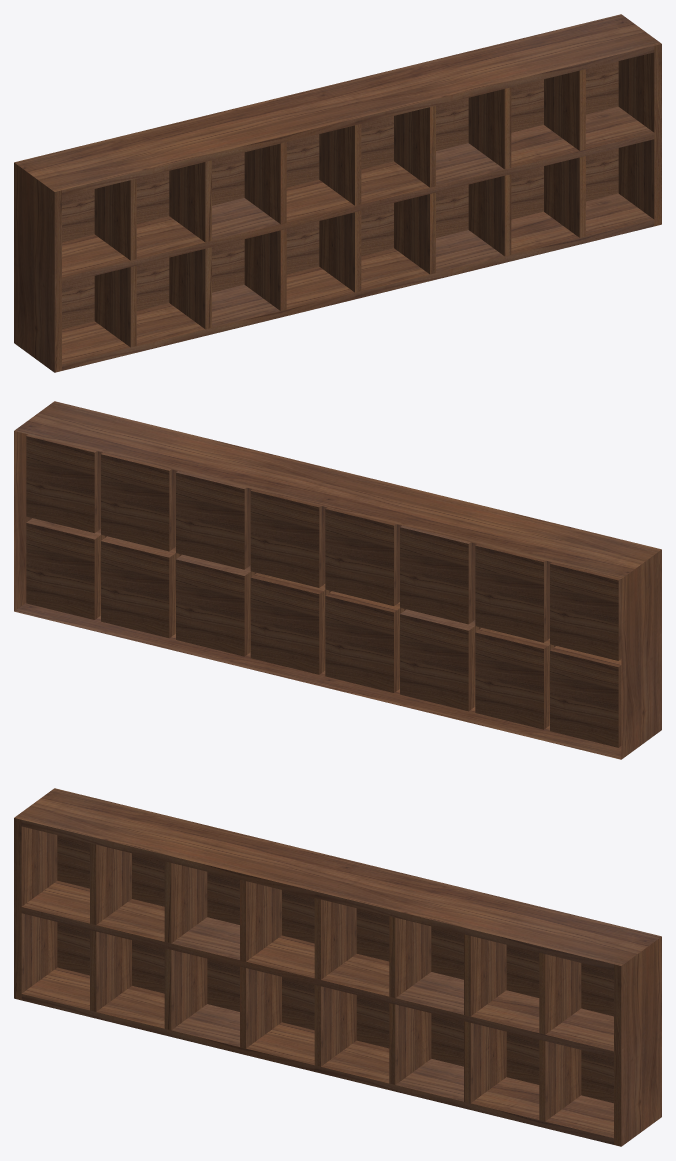
The model's file is wall rack1.FBX.
The picture shows the model from 3 angles, top to bottom: view 1: azimuth 30°, elevation 25°; view 2: azimuth 150°, elevation 25°; view 3: azimuth 330°, elevation 25°; orthographic projection.
Parts seen in each view (by area): view 1: wall rack1; view 2: wall rack1; view 3: wall rack1.
Part boxes in pixels (x1,y1,x2,y2): wall rack1: (14,14,661,372); wall rack1: (14,401,661,759); wall rack1: (14,788,661,1146).
Size of the model in its own units: 90.64 by 10.49 by 25.77.
